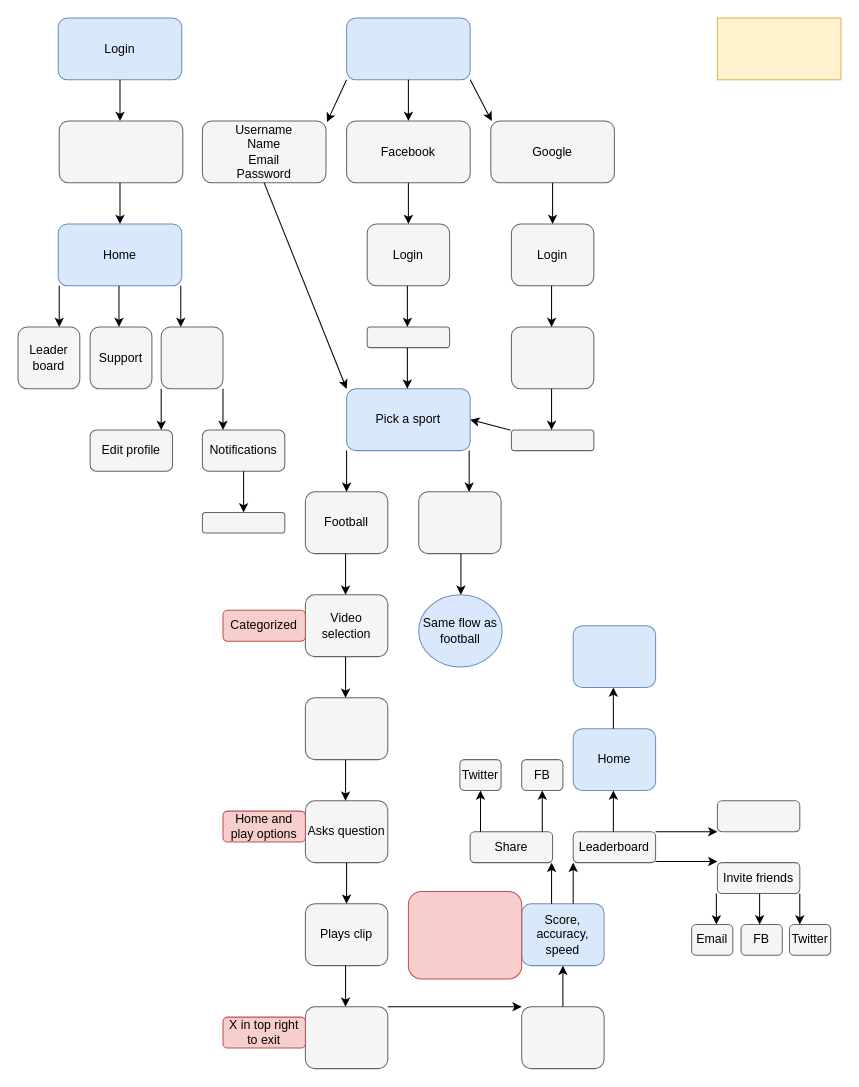
Some shapes in this 859 by 1087 pixel diagram are drawn without their labels. The centre of each missing label's shape, as x and y in pixels:
"Allow/Deny" goes at (552,440).
"Basketball" goes at (459,522).
"Choose account" goes at (552,357).
"Choose video" goes at (346,728).
"Next video" goes at (758,816).
"OK/Cancel" goes at (408,337).
"On/Off" goes at (243,522).
"Option to pick other sport" goes at (614,656).
"Options/10 secs timed" goes at (346,1037).
"Repeated up to 3 times" goes at (562,1037).
"Settings" goes at (191,357).
"Signup" goes at (408,48).
"sIQ App User flow" goes at (778,48).
"Username/password FB Google" goes at (120,151).
"Water Boy Rec. League Stud Big Man on Campus 1st rd. draft pick Hall of Famer" goes at (464,934).
